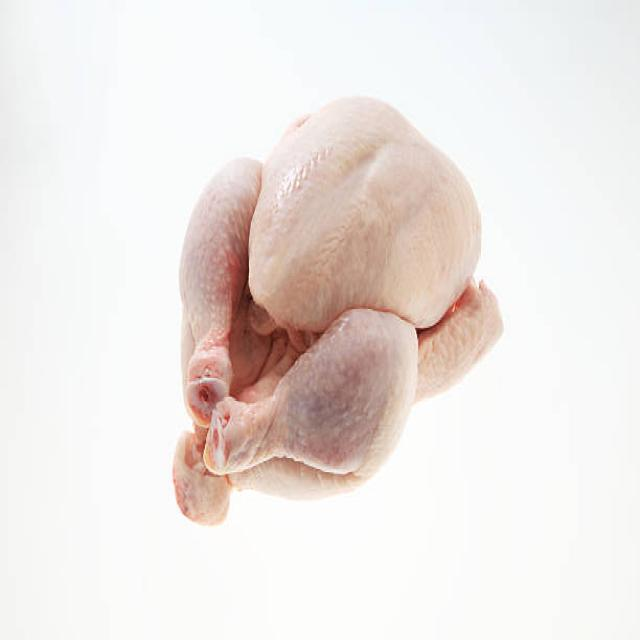Chicken: (150, 80, 512, 548)
